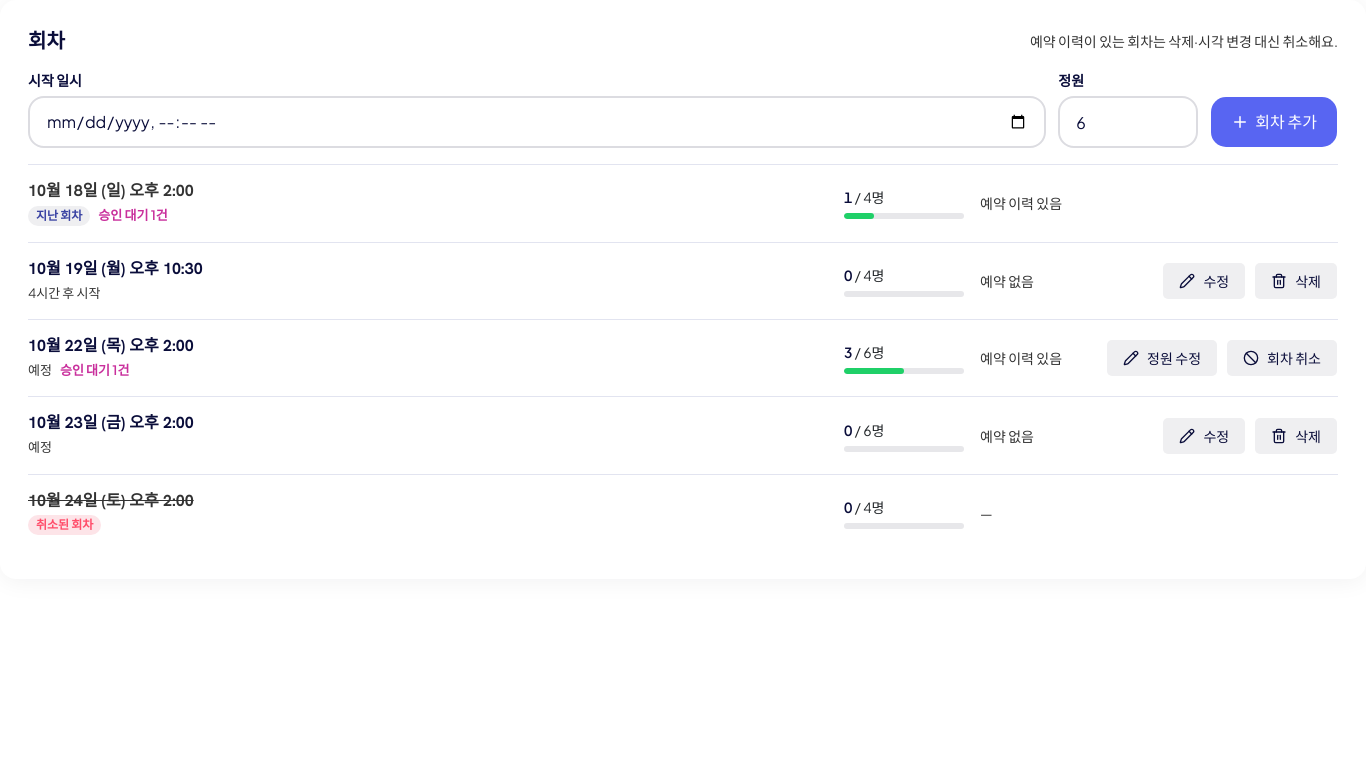
Test: 회차 추가 › R-46: 잘못된 정원 0는 필드 오류로 막는다
The width and height of the screenshot is (1366, 768).
Expected: the table named "회차 목록" is shown, [28, 164, 1338, 552]
Type "2026-10-25T14:30" into the field labelled "시작 일시". click: (537, 122)
box: [28, 96, 1046, 148]
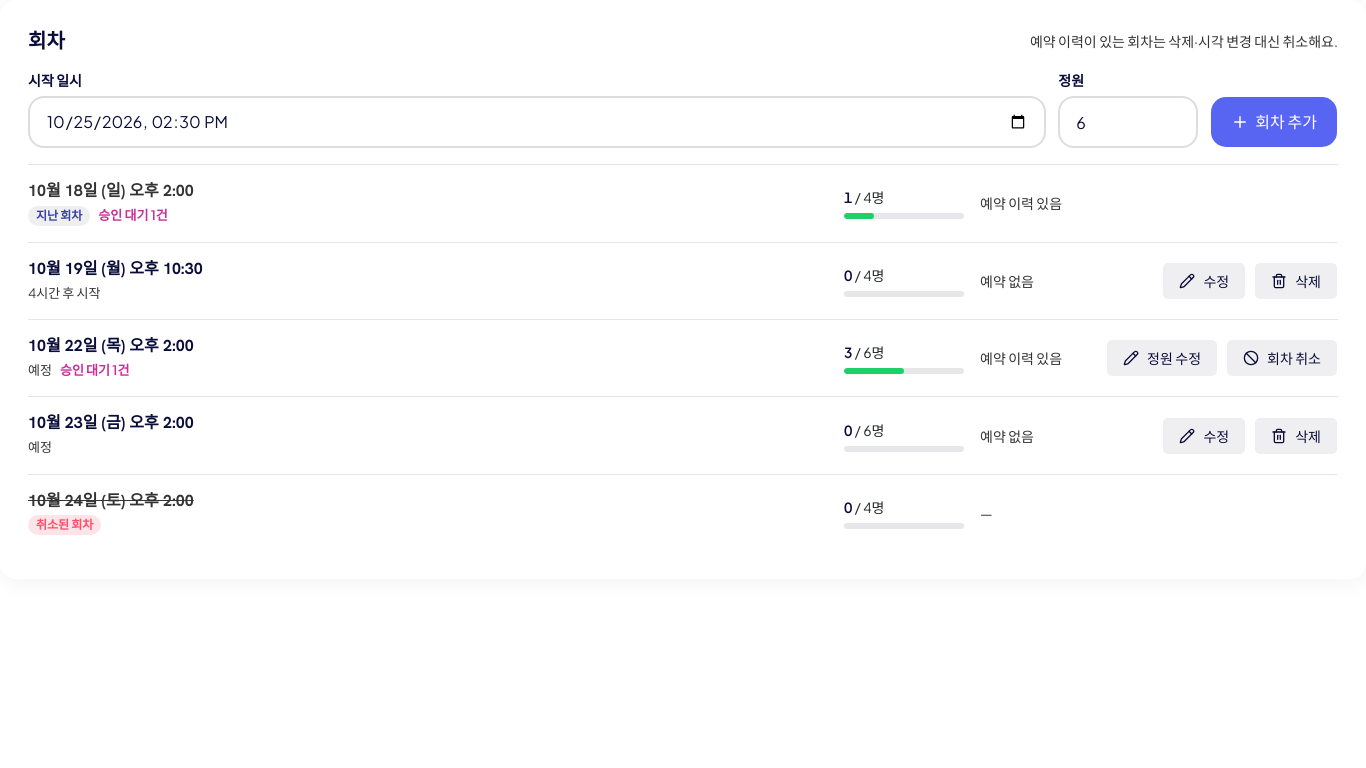
Replace the text in the field labelled "정원" with "0". click: (1128, 122)
box: [1058, 96, 1198, 148]
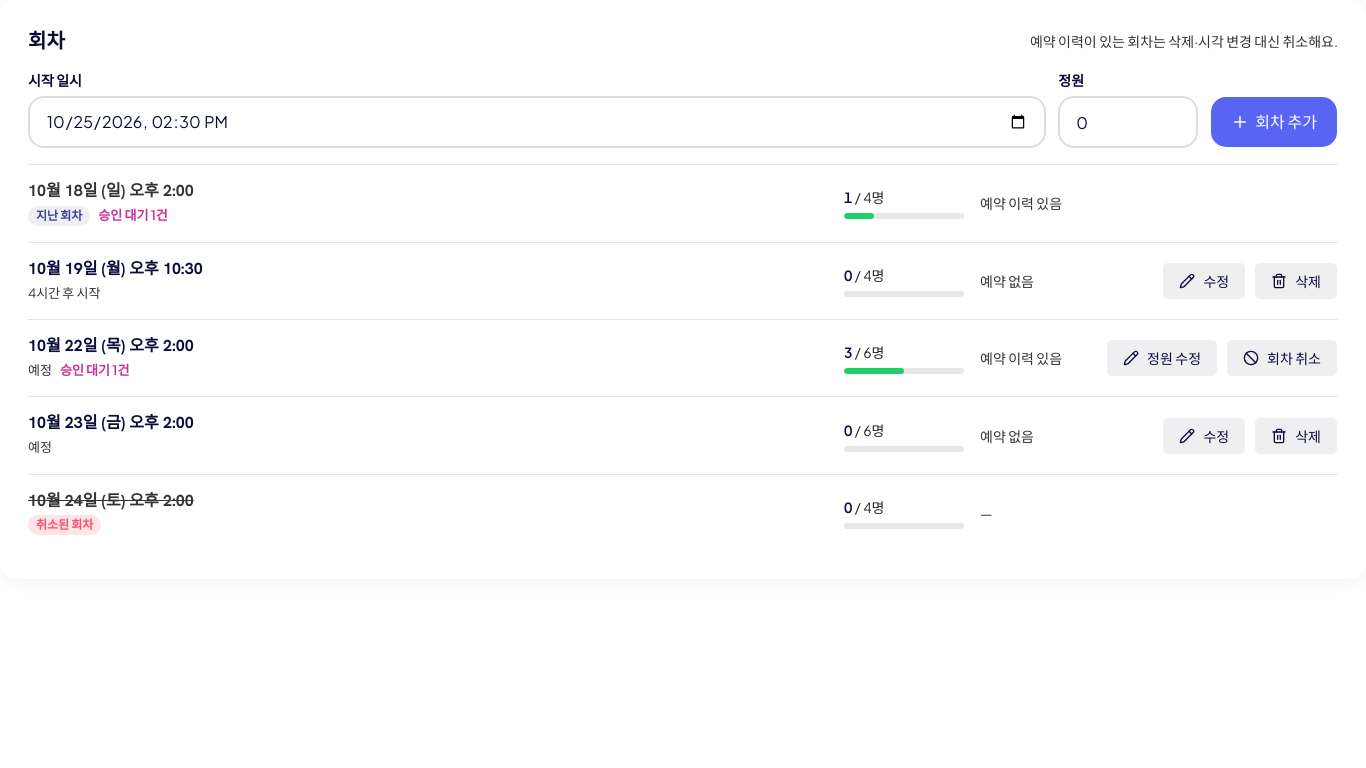
Click the button "회차 추가". click: (1274, 122)
box: [1210, 96, 1338, 148]
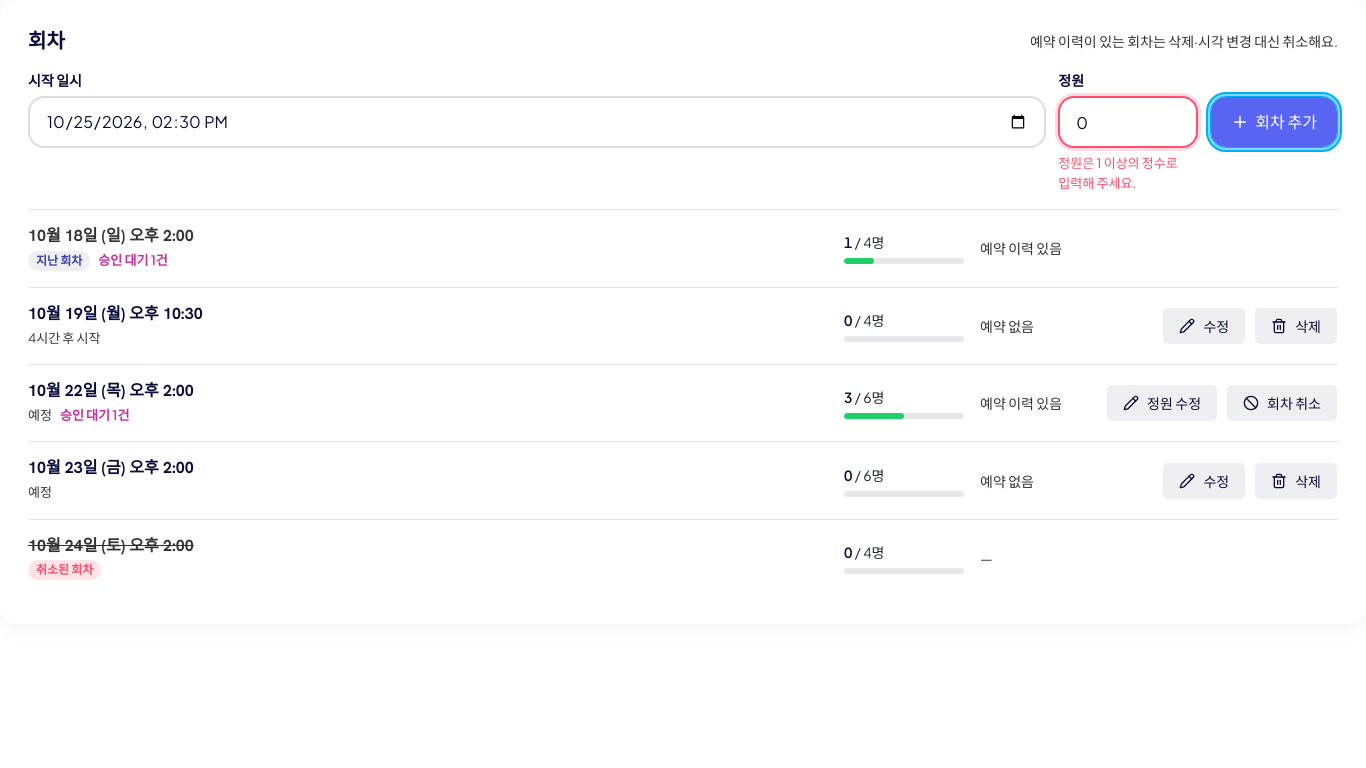
Result: the message shows "정원은 1 이상의 정수" at [1058, 155, 1178, 190]
